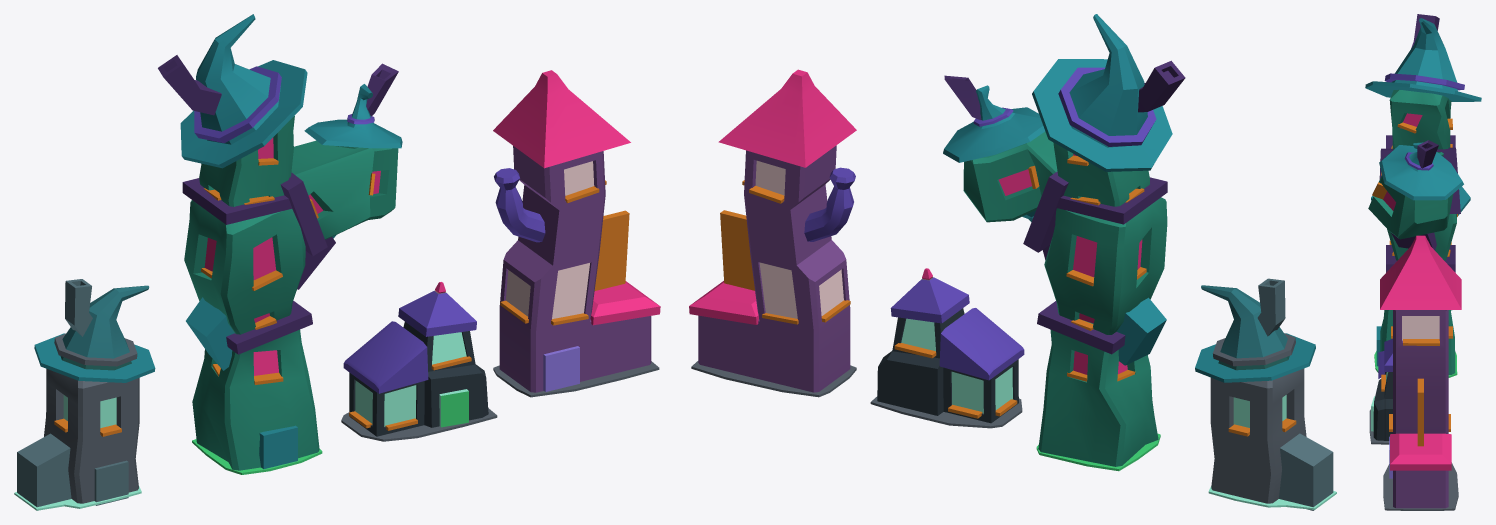
The model's file is WizardTowers.fbx_Buildings.fbx_Buildings.fbx.
The picture shows the model from 3 angles, left to right: view 1: azimuth 30°, elevation 25°; view 2: azimuth 150°, elevation 25°; view 3: azimuth 270°, elevation 25°; orthographic projection. The views are drawn at different scales.
Visible parts, largest first — view 1: BigWizardBuilding, MidWizardBuilding, SmallWizardBuilding, StrangeHut; view 2: BigWizardBuilding, MidWizardBuilding, SmallWizardBuilding, StrangeHut; view 3: MidWizardBuilding, BigWizardBuilding, StrangeHut, SmallWizardBuilding.
Part boxes in pixels (x1,y1,x2,y2): BigWizardBuilding: [158, 14, 402, 474]; MidWizardBuilding: [493, 70, 660, 397]; SmallWizardBuilding: [14, 279, 155, 510]; StrangeHut: [341, 282, 497, 441]; BigWizardBuilding: [943, 14, 1185, 471]; MidWizardBuilding: [689, 69, 856, 397]; SmallWizardBuilding: [1195, 278, 1336, 510]; StrangeHut: [870, 268, 1024, 428]; MidWizardBuilding: [1380, 235, 1461, 510]; BigWizardBuilding: [1365, 14, 1481, 377]; StrangeHut: [1369, 338, 1392, 444]; SmallWizardBuilding: [1371, 186, 1470, 310].
Bounding box in the file's own units: 3571 × 2403 × 735.
